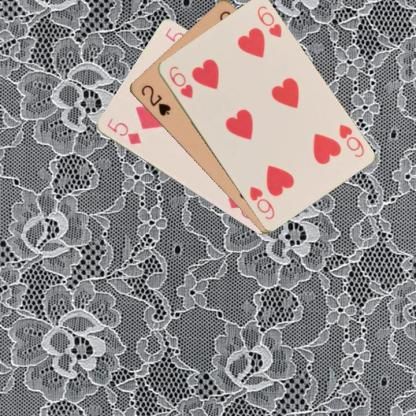2s: (138, 82, 172, 117)
5d: (104, 115, 142, 146)
6h: (336, 121, 365, 159), (166, 63, 194, 100)
